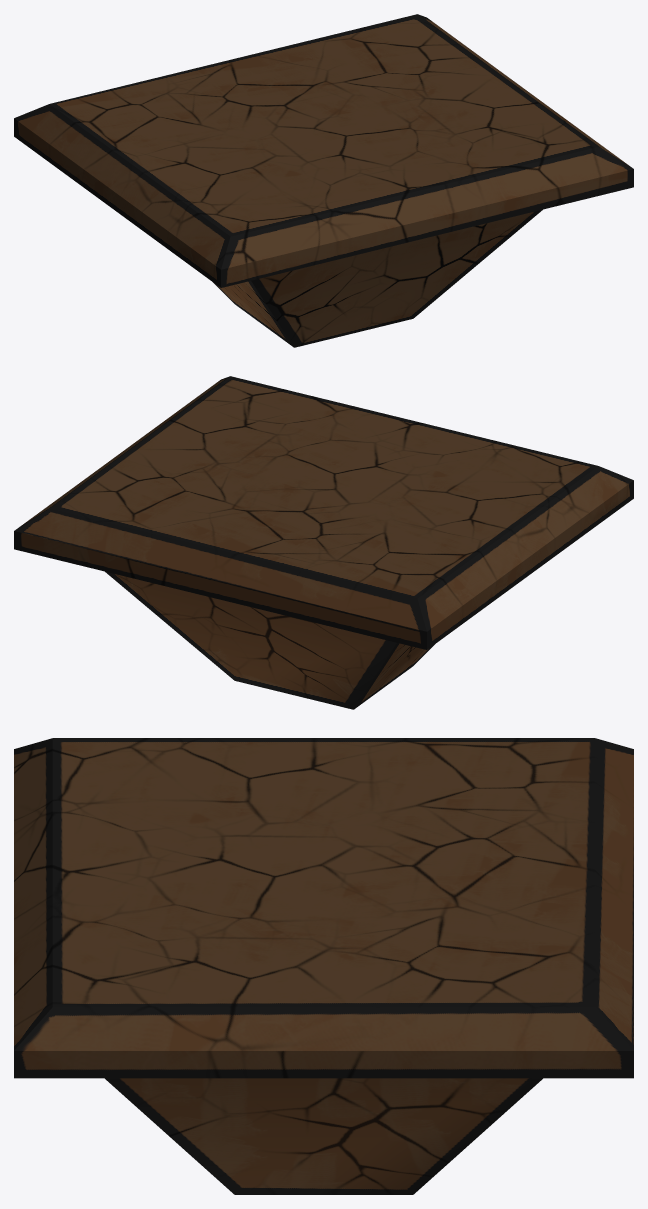
File: Asset_004_FallingPlat.fbx
3 renders of one model, top to bottom at view 1: azimuth 30°, elevation 25°; view 2: azimuth 150°, elevation 25°; view 3: azimuth 270°, elevation 25°, orthographic. The views are drawn at different scales.
Parts seen in each view (by area): view 1: Falling_Platform; view 2: Falling_Platform; view 3: Falling_Platform.
Boxes of the visible parts, bbox=[...] form: Falling_Platform: bbox=[14, 14, 633, 347]; Falling_Platform: bbox=[14, 376, 633, 709]; Falling_Platform: bbox=[14, 738, 633, 1194].
Bounding box in the file's own units: 9.04 × 3.89 × 7.85.
